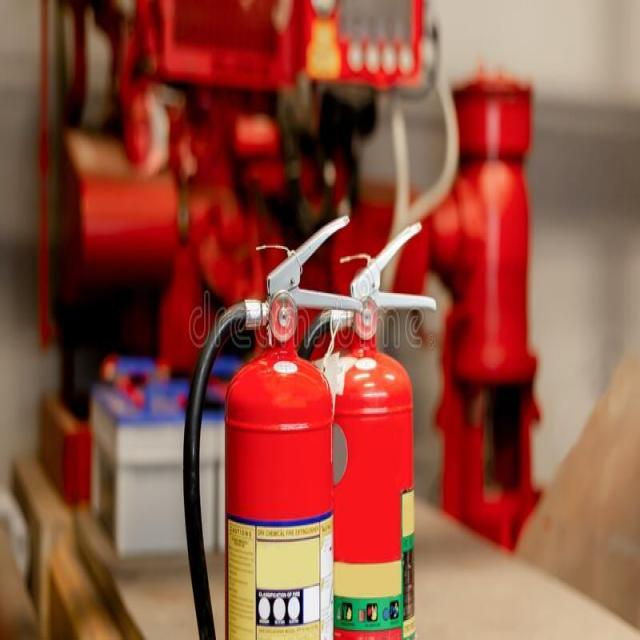fire_extinguisher: (180, 204, 369, 638), (262, 214, 440, 638)
